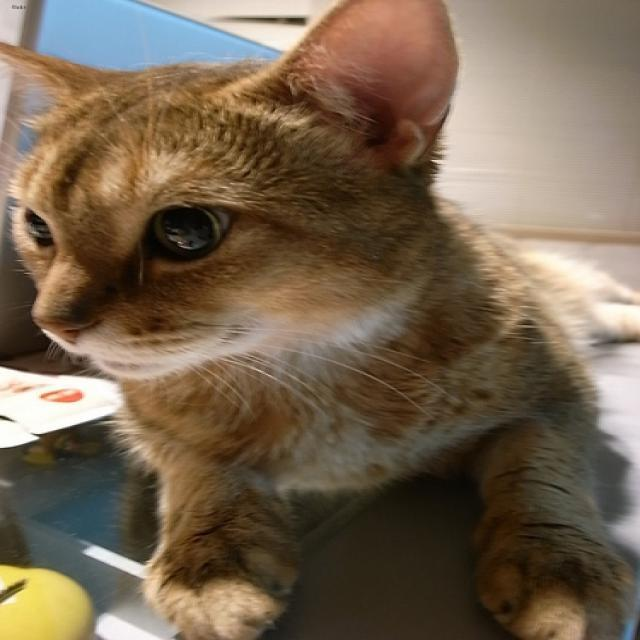Abyssinian: (0, 0, 475, 393)
